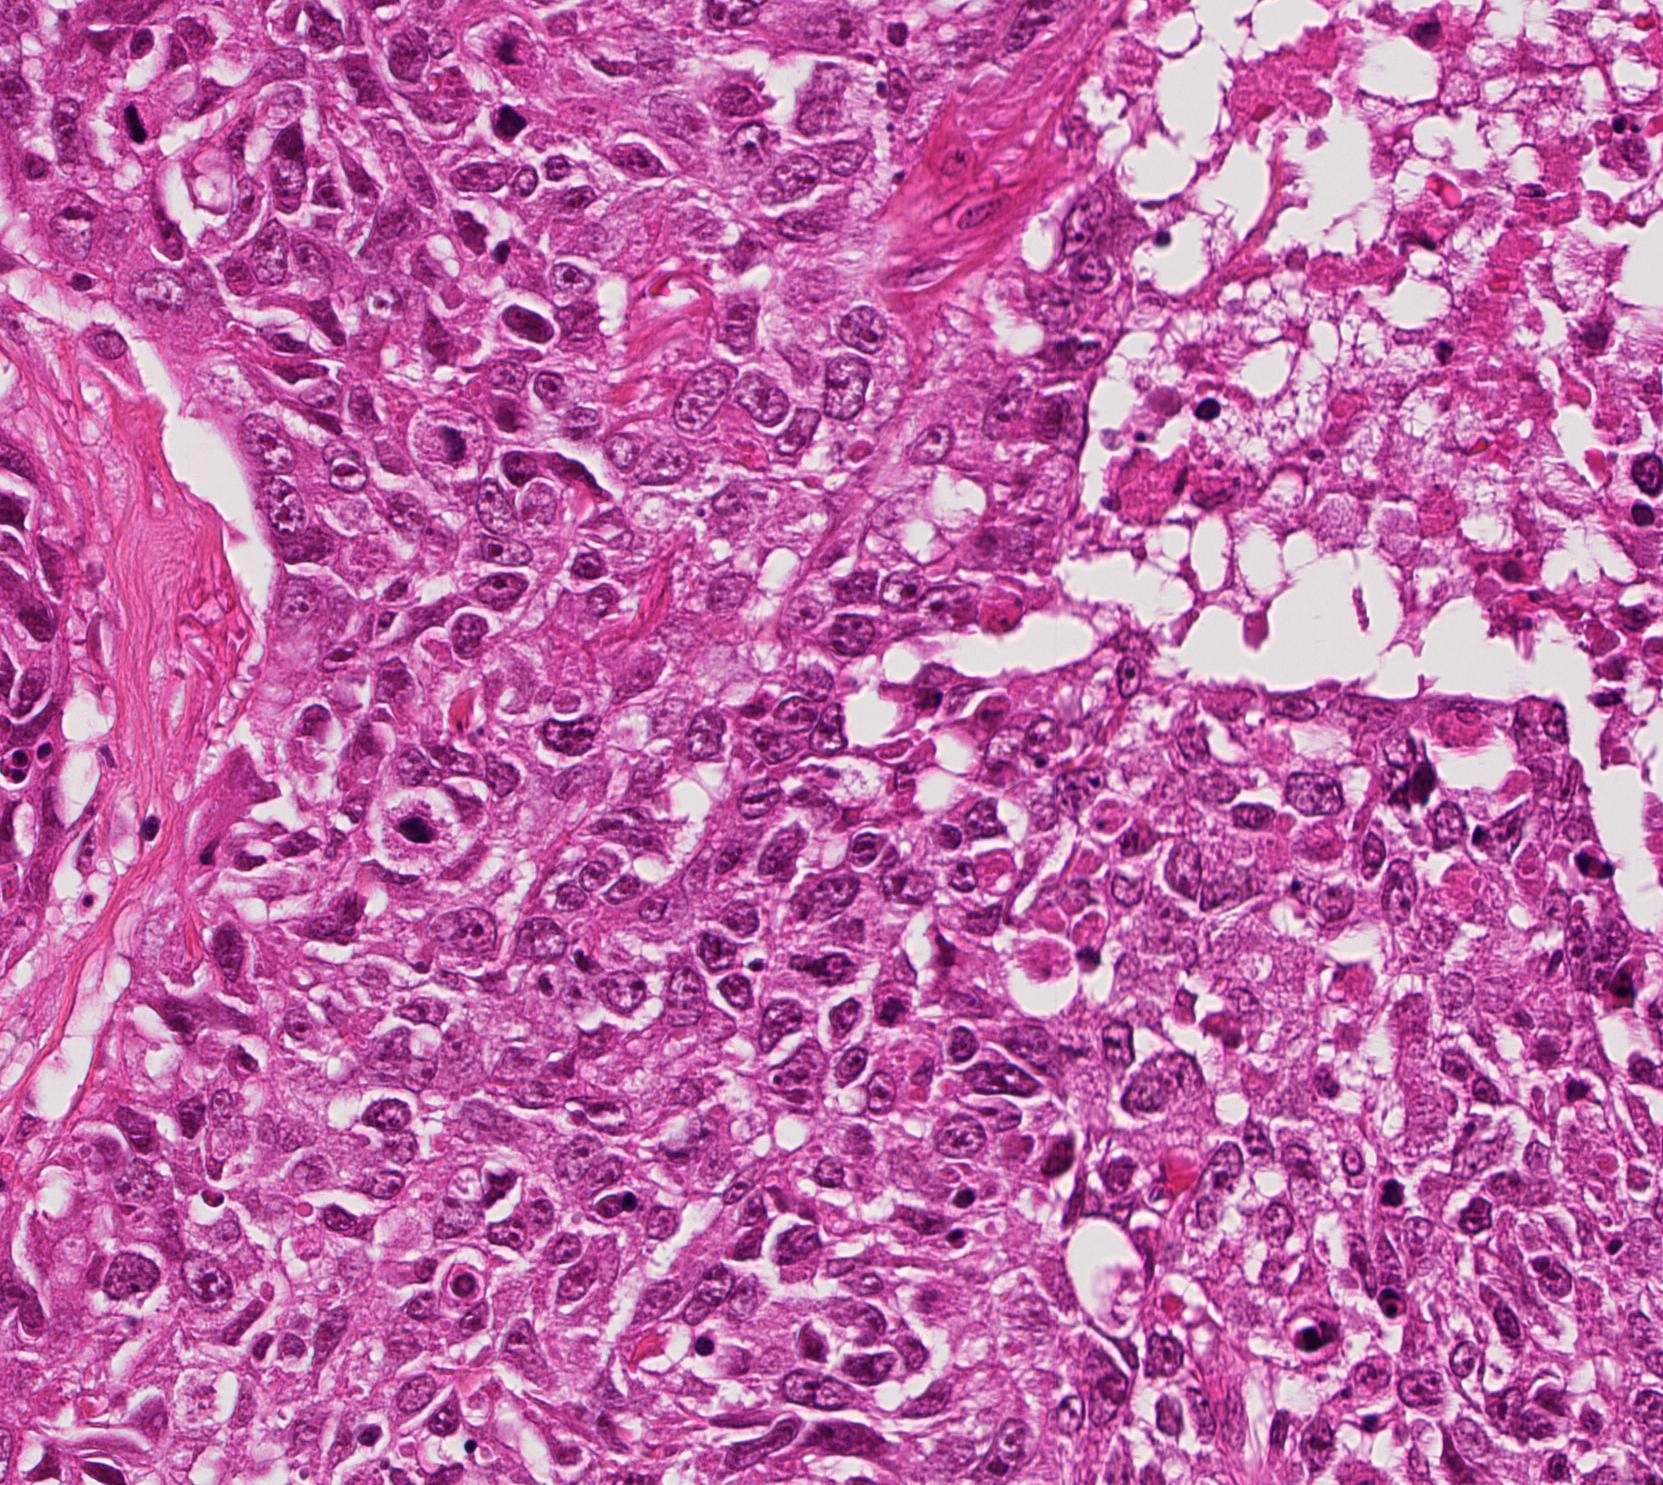mitosis: (429, 409, 487, 469)
